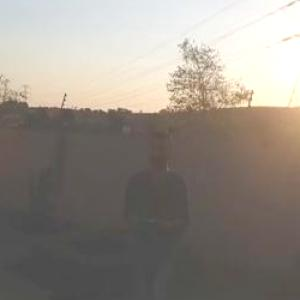follow: (113, 121, 194, 299)
